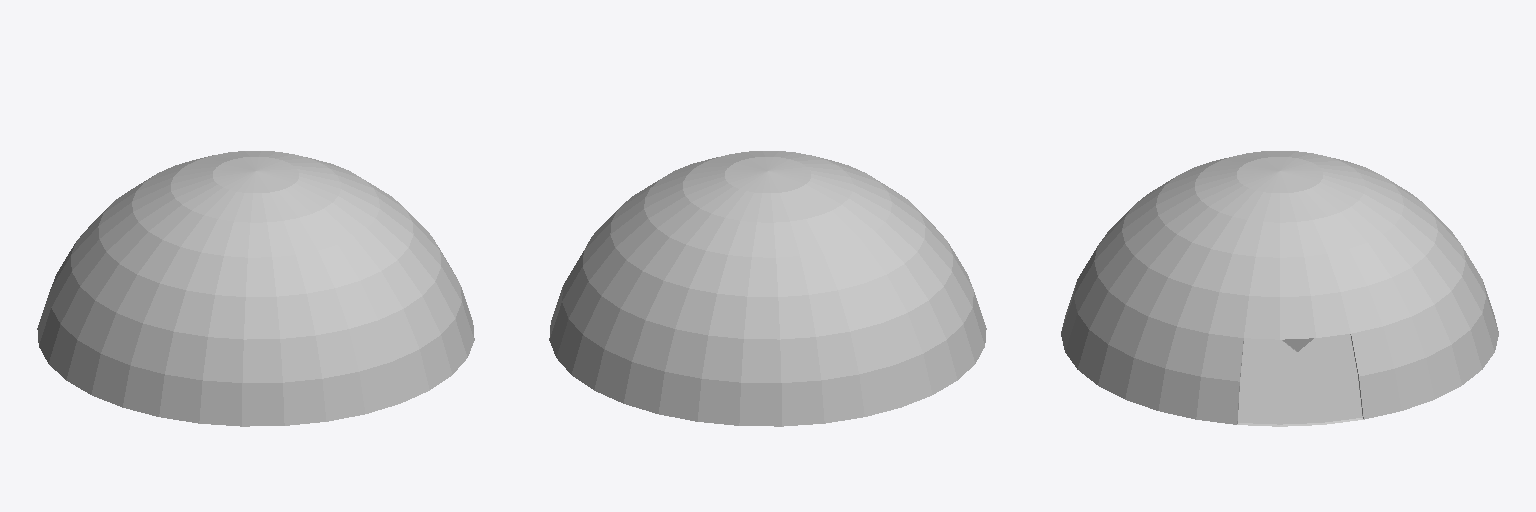
Rendered from PieceWowcacestdelamodelisationinteressante.obj.
3 views of the same model, side by side, from view 1: azimuth 30°, elevation 25°; view 2: azimuth 150°, elevation 25°; view 3: azimuth 270°, elevation 25° (orthographic).
Parts seen in each view (by area): view 1: Sphere.001; view 2: Sphere.001; view 3: Sphere.001.
Part boxes in pixels (x1,y1,x2,y2): Sphere.001: (37,151,474,426); Sphere.001: (549,151,986,426); Sphere.001: (1061,151,1498,426).
Size of the model in its own units: 198 by 84.74 by 198.